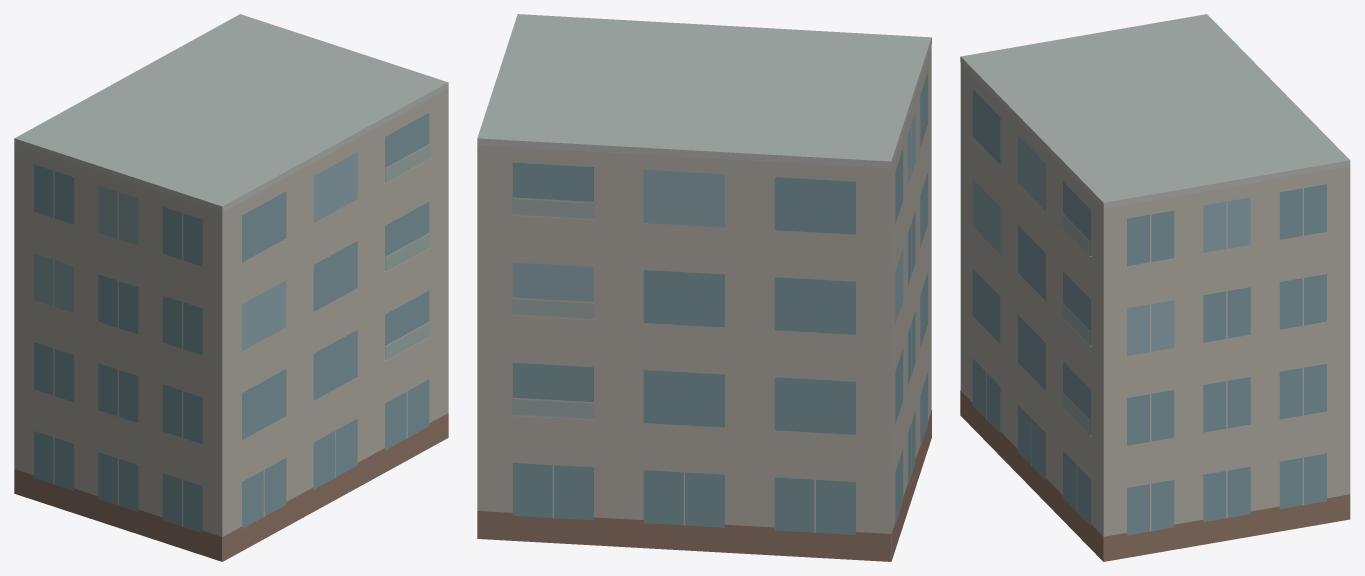
Rendered from survey-upis-32851325.glb.
3 views of the same model, side by side, from view 1: azimuth 30°, elevation 25°; view 2: azimuth 150°, elevation 25°; view 3: azimuth 270°, elevation 25° (orthographic). The views are drawn at different scales.
Parts seen in each view (by area): view 1: survey-upis-32851325.tmp; view 2: survey-upis-32851325.tmp; view 3: survey-upis-32851325.tmp.
Boxes of the visible parts, <box> form: survey-upis-32851325.tmp: <box>14,14,448,561</box>; survey-upis-32851325.tmp: <box>477,14,931,561</box>; survey-upis-32851325.tmp: <box>960,14,1350,561</box>.
Size of the model in its own units: 16.36 by 14.5 by 14.27.
